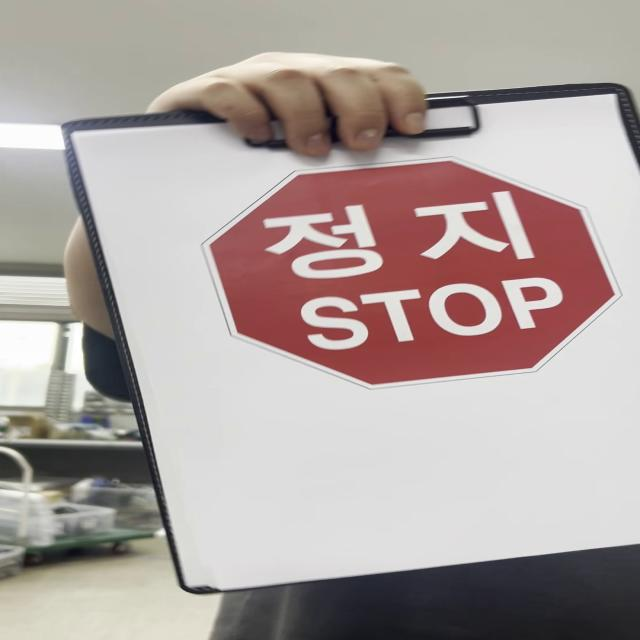stop: (195, 158, 628, 391)
